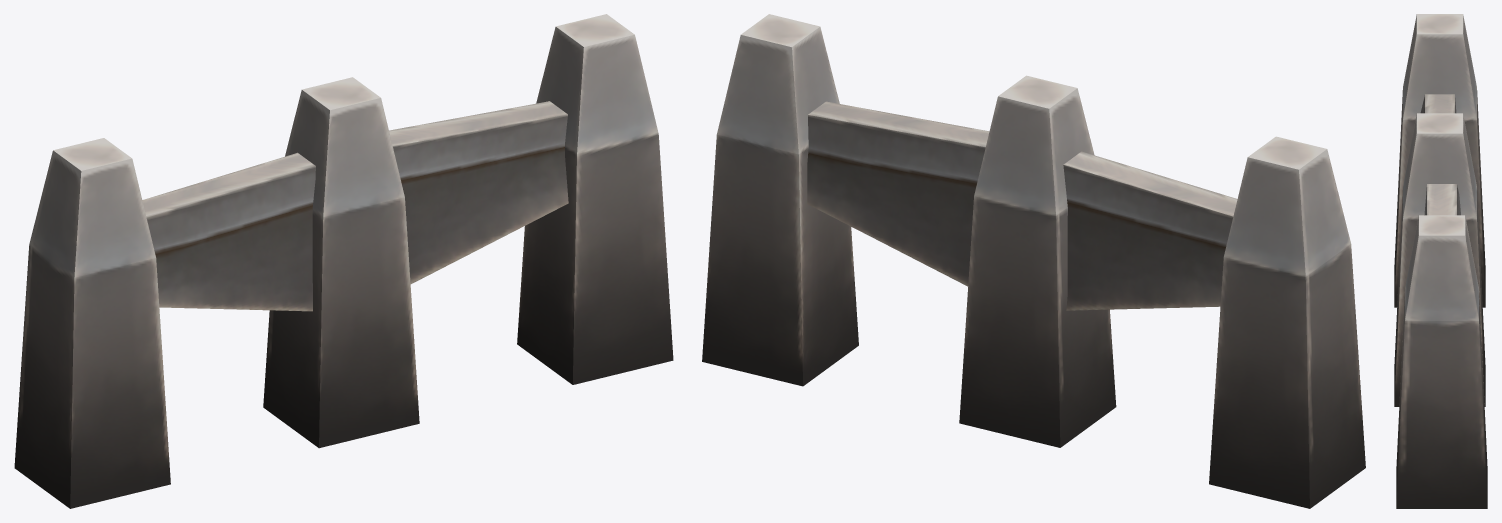
The model's file is Dwarf_Village_Props_13.FBX.
3 views of the same model, side by side, from view 1: azimuth 30°, elevation 25°; view 2: azimuth 150°, elevation 25°; view 3: azimuth 270°, elevation 25° (orthographic). The views are drawn at different scales.
Visible parts, largest first — view 1: Dwarf_Village_Props_13; view 2: Dwarf_Village_Props_13; view 3: Dwarf_Village_Props_13.
Part boxes in pixels (bbox=[...]): Dwarf_Village_Props_13: bbox=[14, 14, 673, 508]; Dwarf_Village_Props_13: bbox=[702, 14, 1365, 508]; Dwarf_Village_Props_13: bbox=[1394, 14, 1487, 508].
Size of the model in its own units: 355 by 181 by 57.97.
